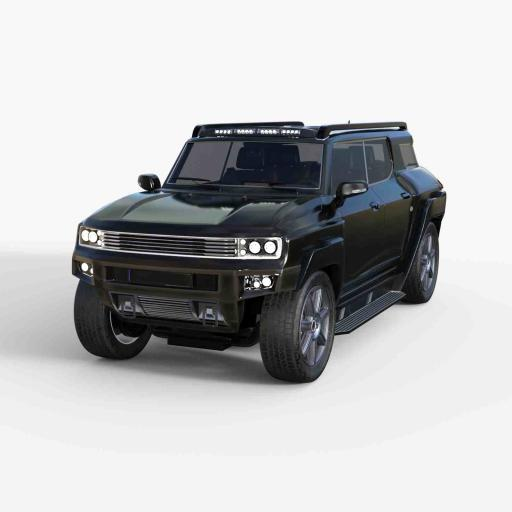suv: (72, 122, 445, 382)
